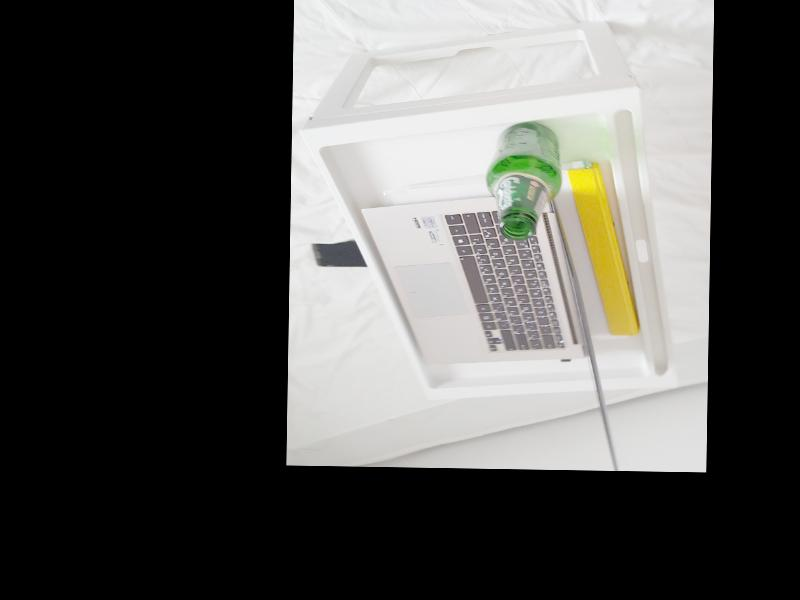Beer: (486, 120, 562, 240)
